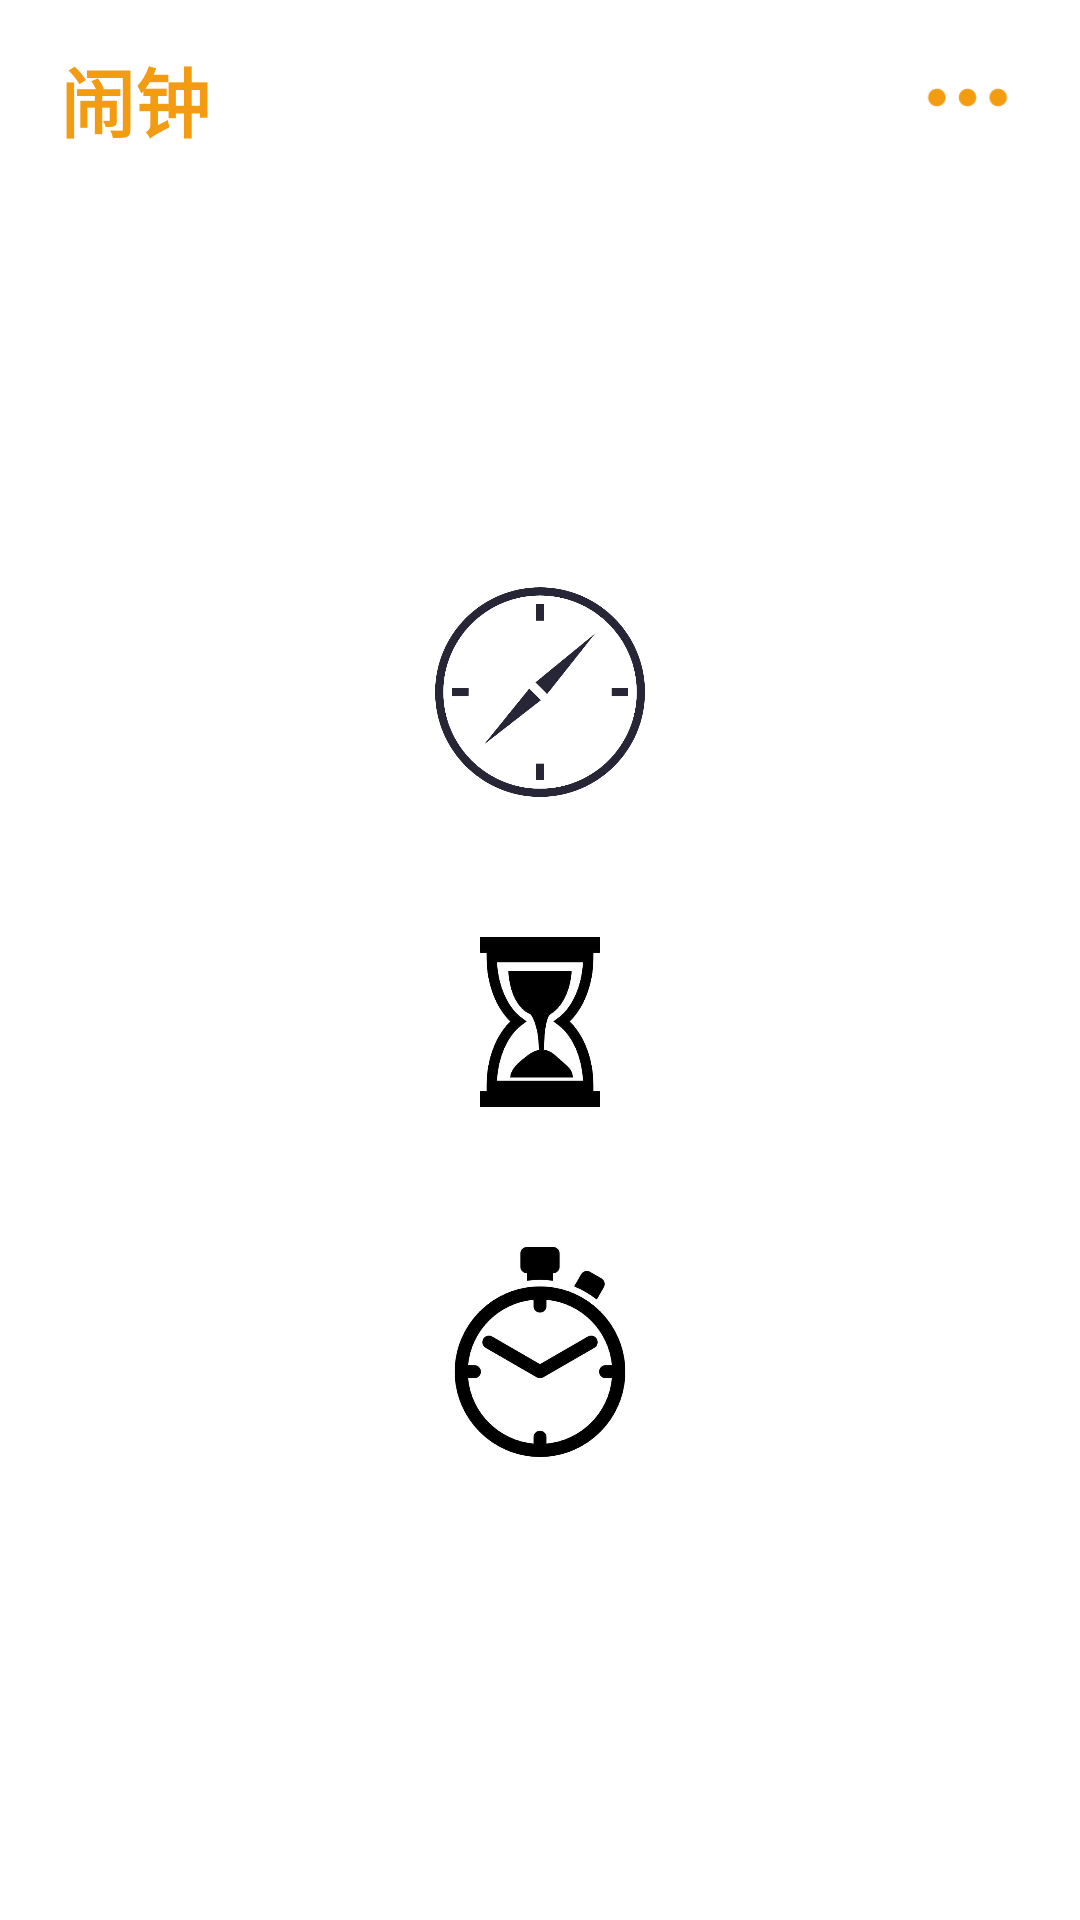

Locate icon controls on the screen. Image size 1080 x 1920, boxes as [x1,y1,x2,y2].
more press: [927,88,1008,107]
sandglass: [480,937,600,1107]
stopwatch: [455,1247,625,1457]
